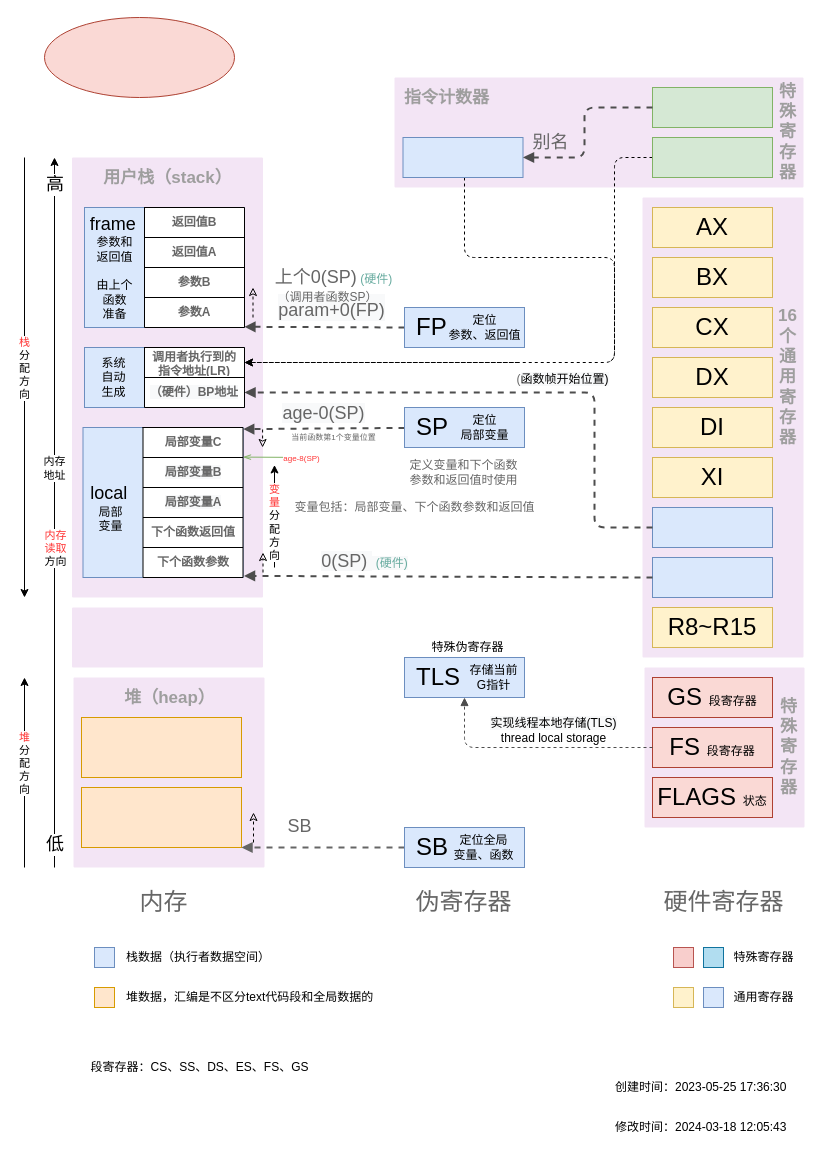
Some shapes in this 822 by 1155 pixel diagram are drawn without their labels. The shapes that lost their labels are listed below. From the top down, each one's centre as x and y in pixels, then its label:
At point 139,57: "内存和寄存器".
At point 712,107: "IP 指令计数器".
At point 462,157: "PC 执行指令地址".
At point 712,157: "LR 存储返回指令".
At point 712,527: "BP 基指针( 栈底)".
At point 712,577: "SP 栈指针(栈顶)".
At point 167,637: "空闲内存".
At point 161,747: ".data 全局变量数据 （由DATA汇编指令定义）".
At point 161,817: ".text 定义函数的指令 （由TEXT汇编指令定义）".
